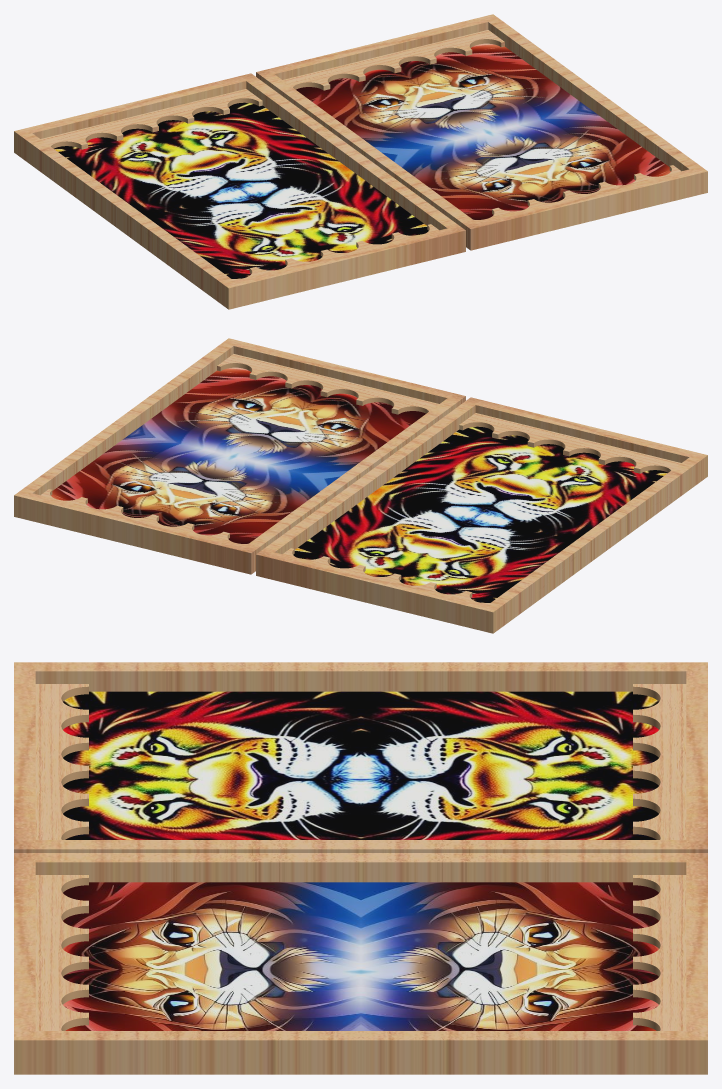
The model's file is board.glb.
3 renders of one model, top to bottom at view 1: azimuth 30°, elevation 25°; view 2: azimuth 150°, elevation 25°; view 3: azimuth 270°, elevation 25°, orthographic. The views are drawn at different scales.
Visible parts, largest first — view 1: Cube.002; view 2: Cube.002; view 3: Cube.002.
Boxes of the visible parts, bbox=[...] form: Cube.002: bbox=[14, 14, 707, 309]; Cube.002: bbox=[14, 338, 707, 633]; Cube.002: bbox=[14, 662, 707, 1074].
Bounding box in the file's own units: 2.02 × 0.0862 × 1.57.
Materials: 3 (3 with a texture image).
